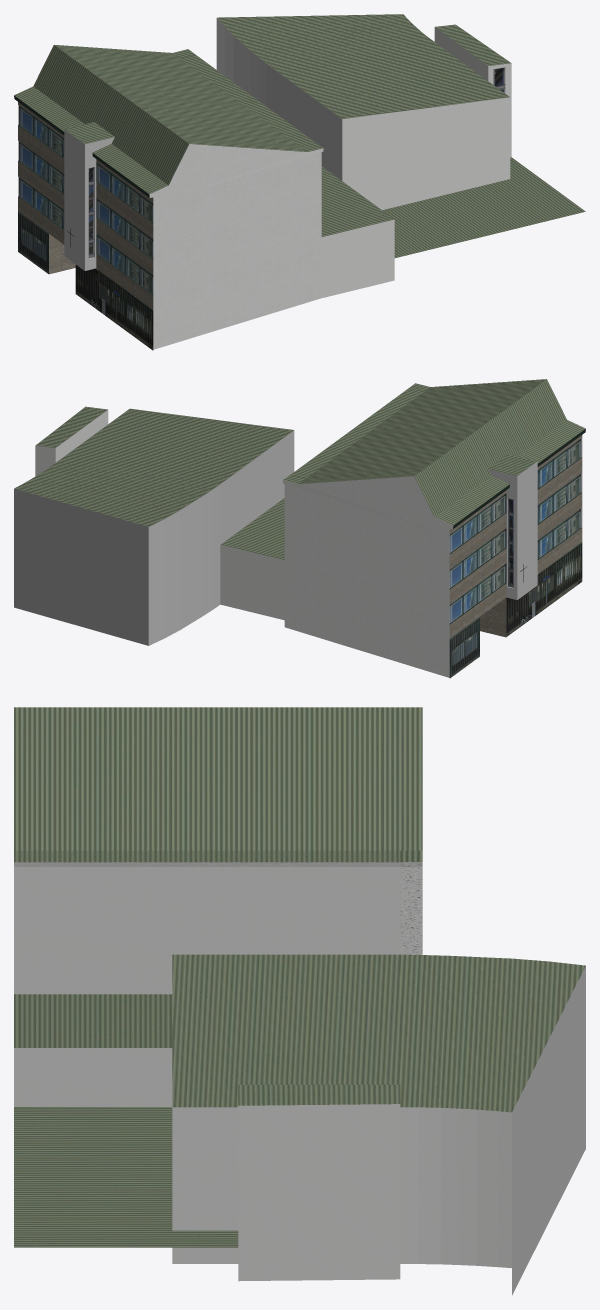
Rendered from isokatu_19.dae.
The picture shows the model from 3 angles, top to bottom: view 1: azimuth 30°, elevation 25°; view 2: azimuth 150°, elevation 25°; view 3: azimuth 270°, elevation 25°; orthographic projection. The views are drawn at different scales.
Parts seen in each view (by area): view 1: Object_1; view 2: Object_1; view 3: Object_1.
Part boxes in pixels (x1,y1,x2,y2): Object_1: (14, 14, 585, 350); Object_1: (14, 379, 585, 678); Object_1: (14, 707, 585, 1295).
Size of the model in its own units: 39.76 by 29.39 by 17.53.
